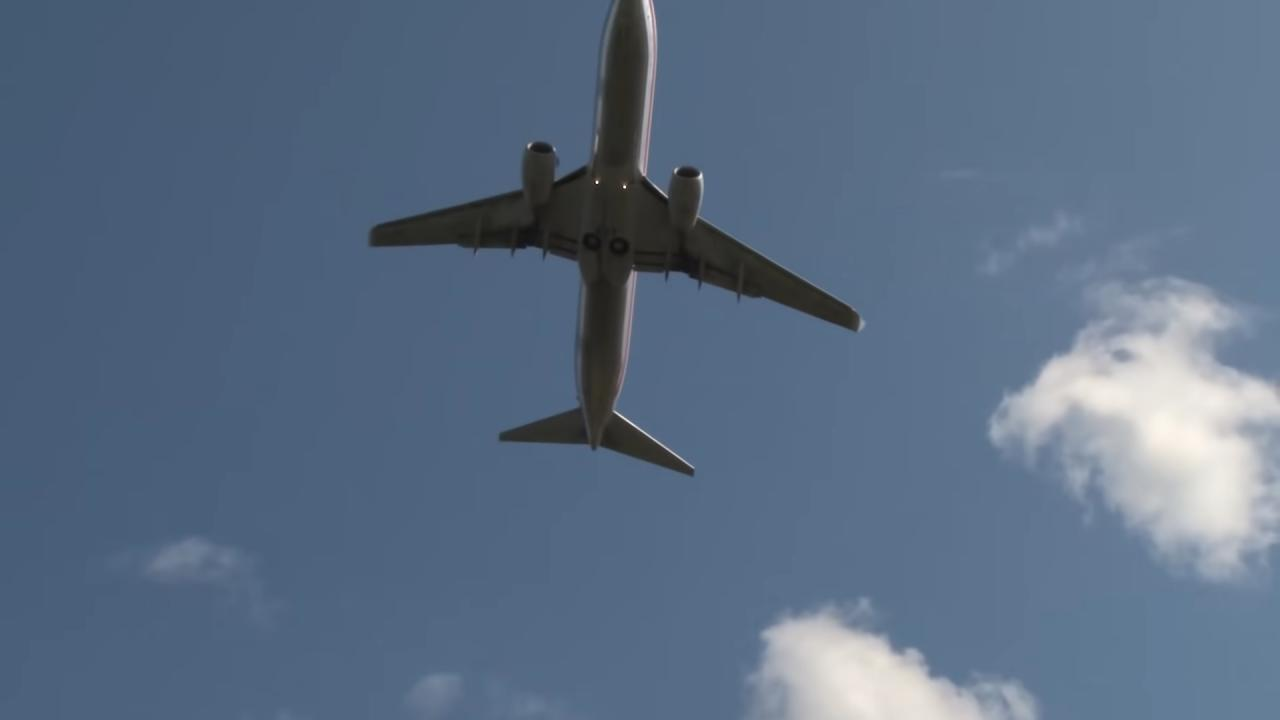Airplane: (356, 0, 883, 490)
